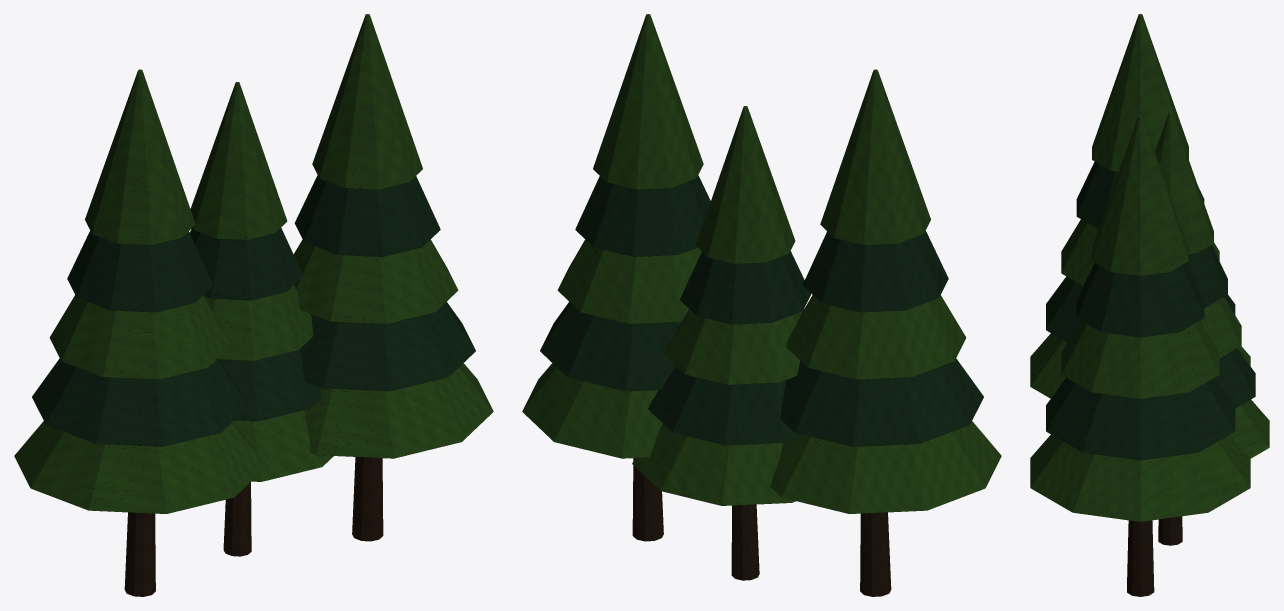
The model's file is PROP-7425B681F110_lod1.glb.
3 views of the same model, side by side, from view 1: azimuth 30°, elevation 25°; view 2: azimuth 150°, elevation 25°; view 3: azimuth 270°, elevation 25° (orthographic). The views are drawn at different scales.
Visible parts, largest first — view 1: layered_conifer_crown.012, layered_conifer_crown.013, trunk.007; view 2: layered_conifer_crown.012, layered_conifer_crown.013, trunk.007; view 3: layered_conifer_crown.012, layered_conifer_crown.013, trunk.007.
Boxes of the visible parts, box(x1,y1,x2,y2) form: layered_conifer_crown.012: box(14, 14, 493, 513); layered_conifer_crown.013: box(32, 175, 475, 446); trunk.007: box(124, 457, 383, 596); layered_conifer_crown.012: box(522, 14, 1001, 513); layered_conifer_crown.013: box(540, 175, 983, 446); trunk.007: box(632, 458, 891, 596); layered_conifer_crown.012: box(1030, 14, 1269, 521); layered_conifer_crown.013: box(1046, 161, 1255, 460); trunk.007: box(1127, 516, 1182, 596).
Bounding box in the file's own units: 7.87 × 8.75 × 3.99.
Materials: 3 (3 with a texture image).
